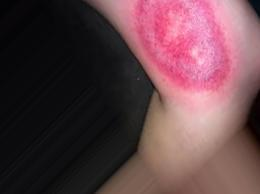Tick: (131, 0, 232, 91)
